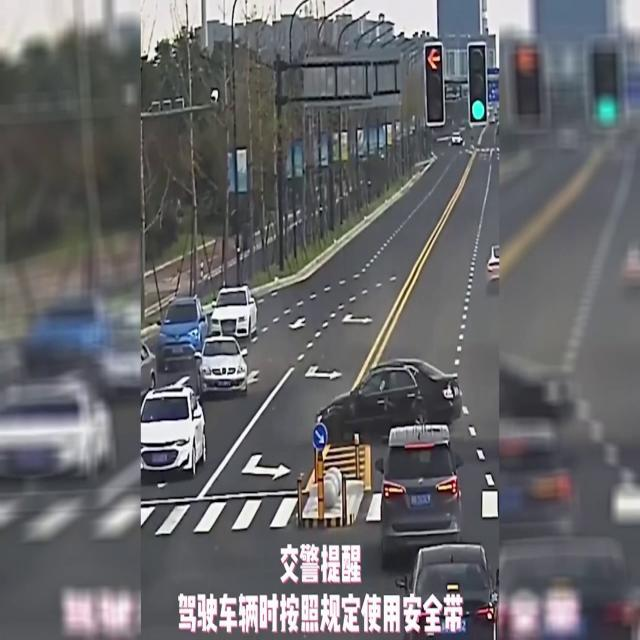normal: (355, 420, 486, 573), (306, 362, 491, 458), (153, 266, 255, 400), (133, 385, 226, 487)
